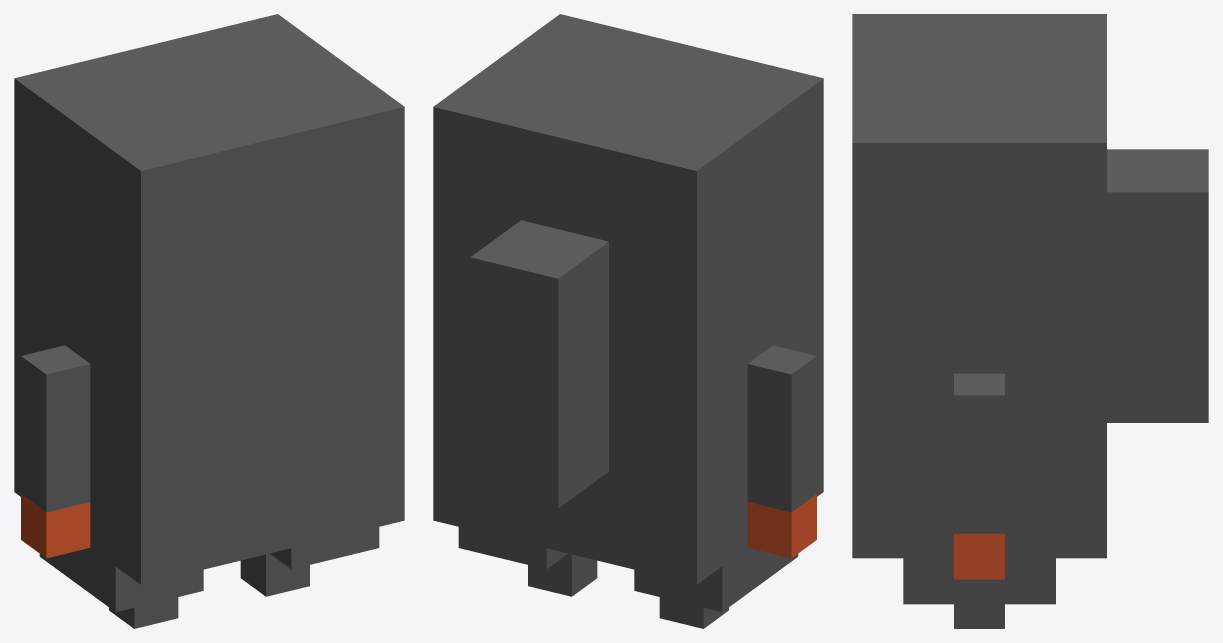
Rendered from chr_hazmat2.obj.
The picture shows the model from 3 angles, left to right: view 1: azimuth 30°, elevation 25°; view 2: azimuth 150°, elevation 25°; view 3: azimuth 270°, elevation 25°; orthographic projection.
Size of the model in its own units: 8 by 11 by 7.
